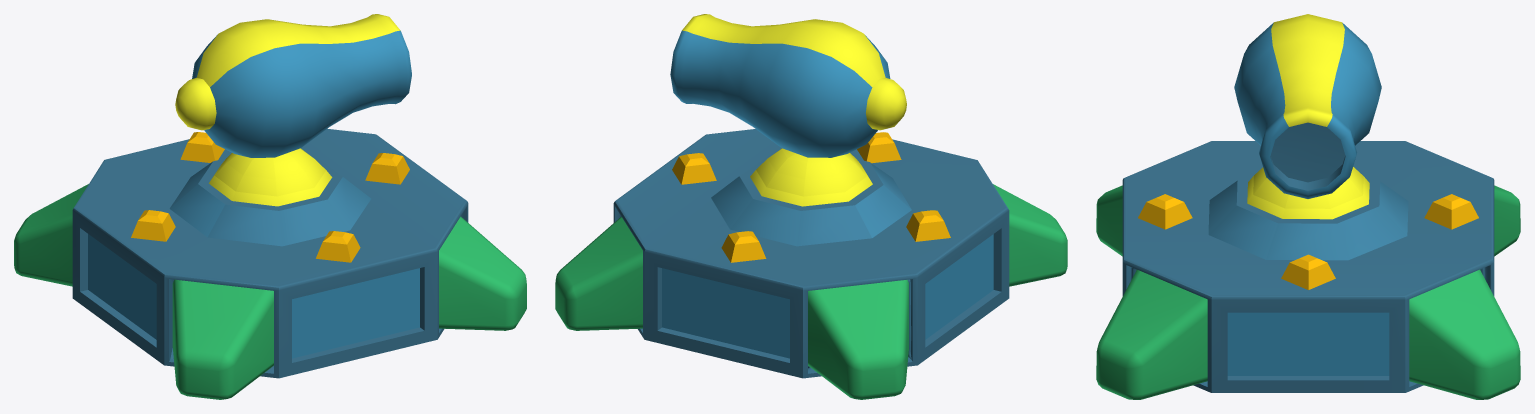
File: islnd3-cannonball3.fbx
3 views of the same model, side by side, from view 1: azimuth 30°, elevation 25°; view 2: azimuth 150°, elevation 25°; view 3: azimuth 270°, elevation 25° (orthographic). The views are drawn at different scales.
Parts seen in each view (by area): view 1: islnd3-cannonball3, island3-cannonball3.01; view 2: islnd3-cannonball3, island3-cannonball3.01; view 3: islnd3-cannonball3, island3-cannonball3.01.
Boxes of the visible parts, bbox=[...] form: islnd3-cannonball3: bbox=[14, 128, 526, 399]; island3-cannonball3.01: bbox=[175, 14, 411, 206]; islnd3-cannonball3: bbox=[555, 129, 1067, 399]; island3-cannonball3.01: bbox=[670, 14, 906, 206]; islnd3-cannonball3: bbox=[1096, 141, 1520, 399]; island3-cannonball3.01: bbox=[1234, 14, 1381, 219].
Size of the model in its own units: 2.98 by 2.23 by 2.98.
Materials: 1 (1 with a texture image).
